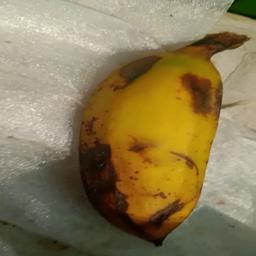Banana Semirotten: (75, 13, 252, 247)
